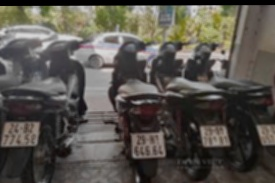Bien-so: (3, 116, 43, 141), (131, 126, 166, 154), (197, 120, 229, 143), (254, 120, 274, 141)
